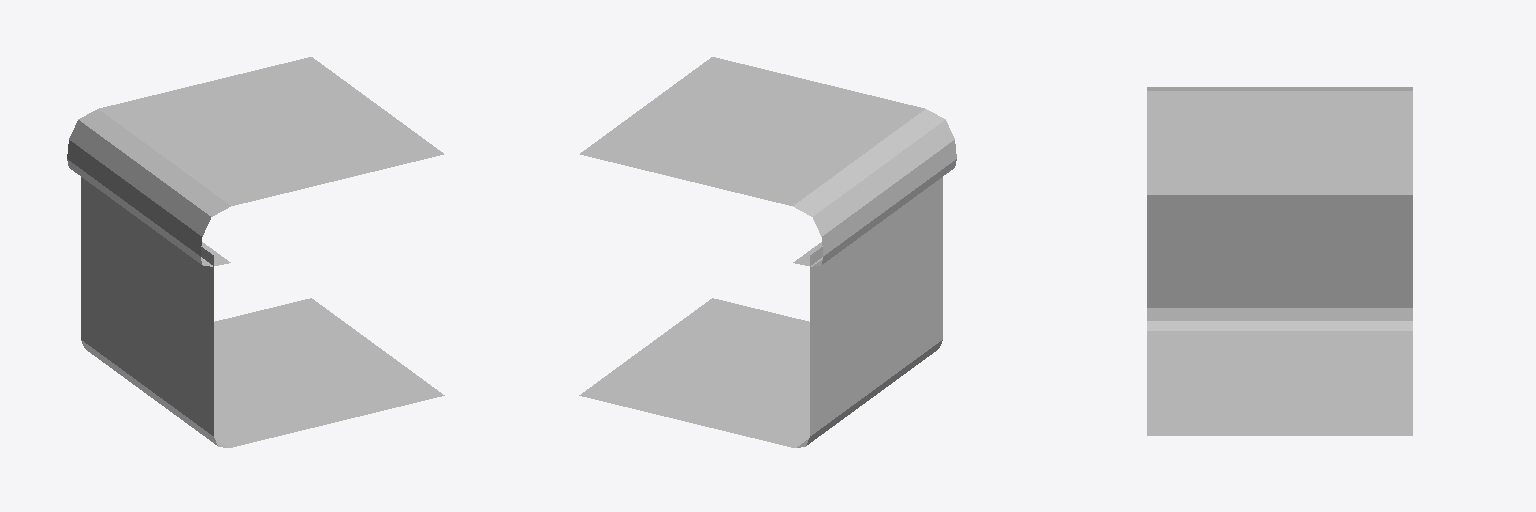
The model's file is cube_grass_side_left.obj.
The picture shows the model from 3 angles: view 1: azimuth 30°, elevation 25°; view 2: azimuth 150°, elevation 25°; view 3: azimuth 270°, elevation 25°; orthographic projection.
Visible parts, largest first — view 1: cube_grass_side.005; view 2: cube_grass_side.005; view 3: cube_grass_side.005.
Boxes of the visible parts, x1,y1,x2,y2 form: cube_grass_side.005: [67, 57, 444, 447]; cube_grass_side.005: [579, 57, 956, 447]; cube_grass_side.005: [1147, 87, 1412, 435].
Bounding box in the file's own units: 1.06 × 0.998 × 1.